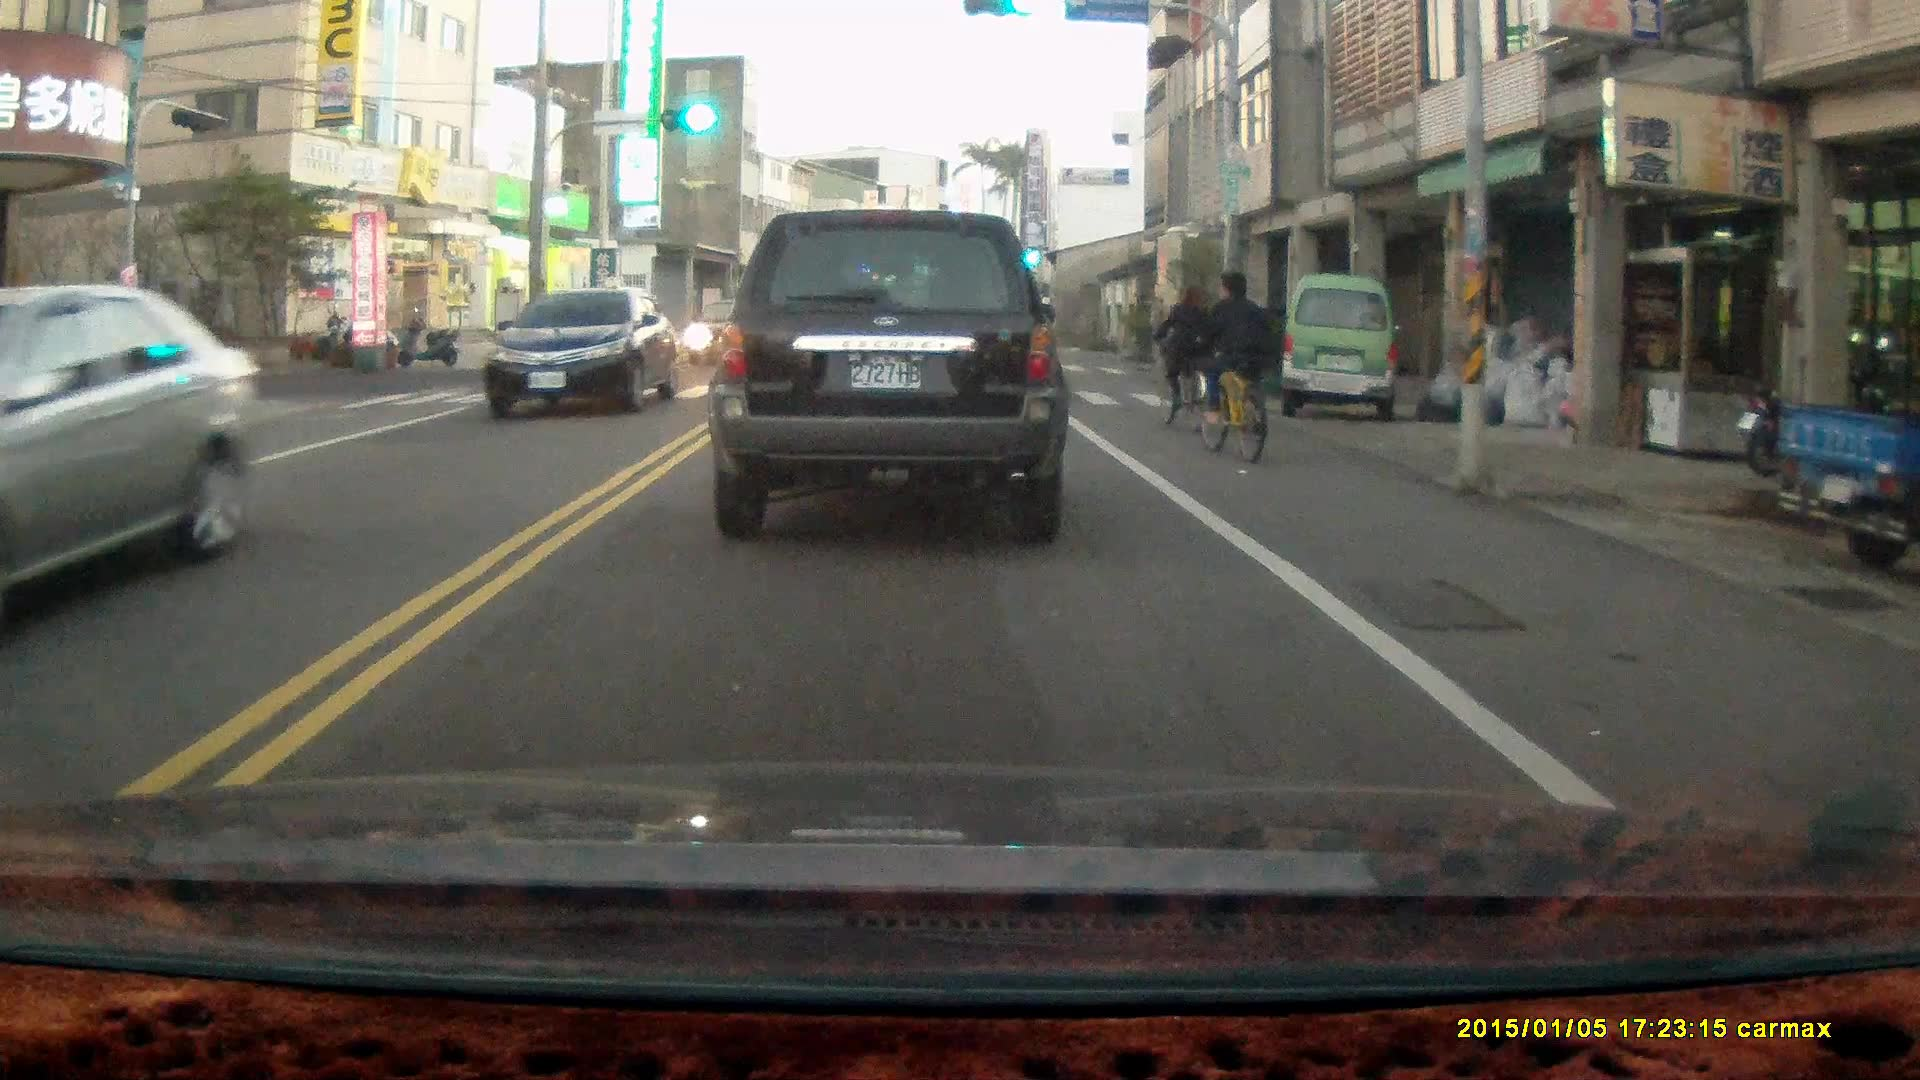rider: (1196, 267, 1271, 462), (1152, 276, 1220, 437)
vehicle: (714, 208, 1071, 540), (1, 282, 263, 637), (485, 282, 682, 422), (1280, 274, 1401, 427), (680, 299, 779, 368)
